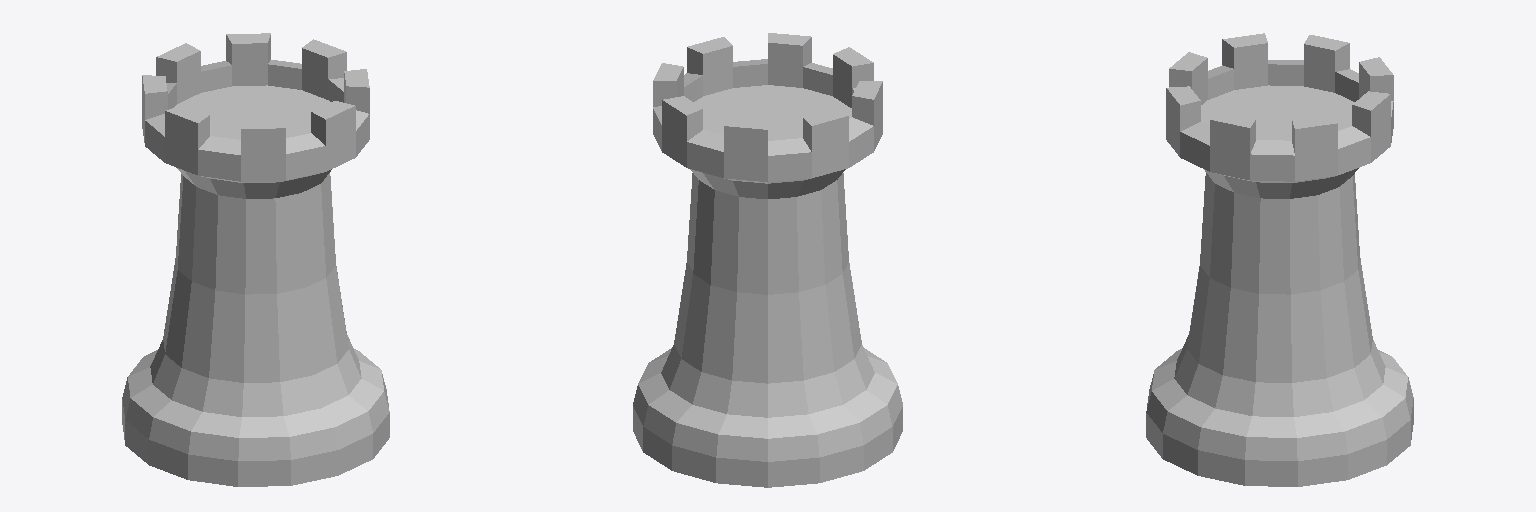
The model's file is rock.obj.
3 views of the same model, side by side, from view 1: azimuth 30°, elevation 25°; view 2: azimuth 150°, elevation 25°; view 3: azimuth 270°, elevation 25° (orthographic).
Visible parts, largest first — view 1: Rook_Cylinder.002; view 2: Rook_Cylinder.002; view 3: Rook_Cylinder.002.
Boxes of the visible parts, x1,y1,x2,y2 form: Rook_Cylinder.002: [122, 33, 389, 486]; Rook_Cylinder.002: [633, 33, 902, 487]; Rook_Cylinder.002: [1146, 33, 1413, 486].
Bounding box in the file's own units: 0.8277 × 1.19 × 0.8277.